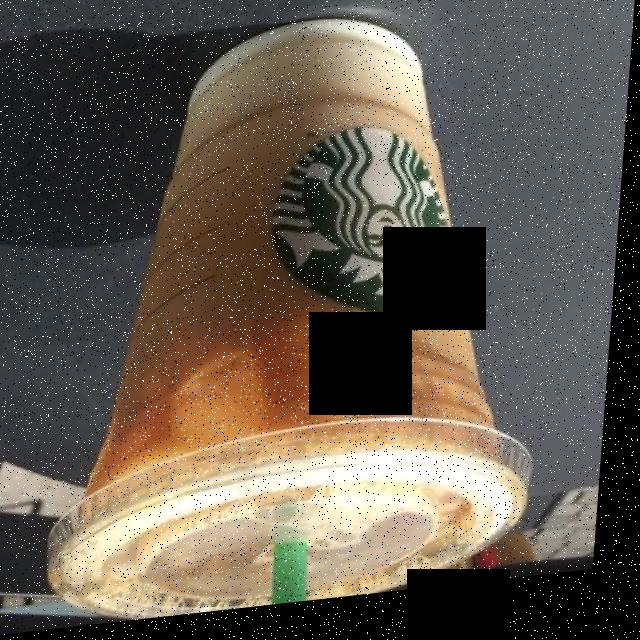white-coffee-with-caffeine: (73, 37, 526, 614)
